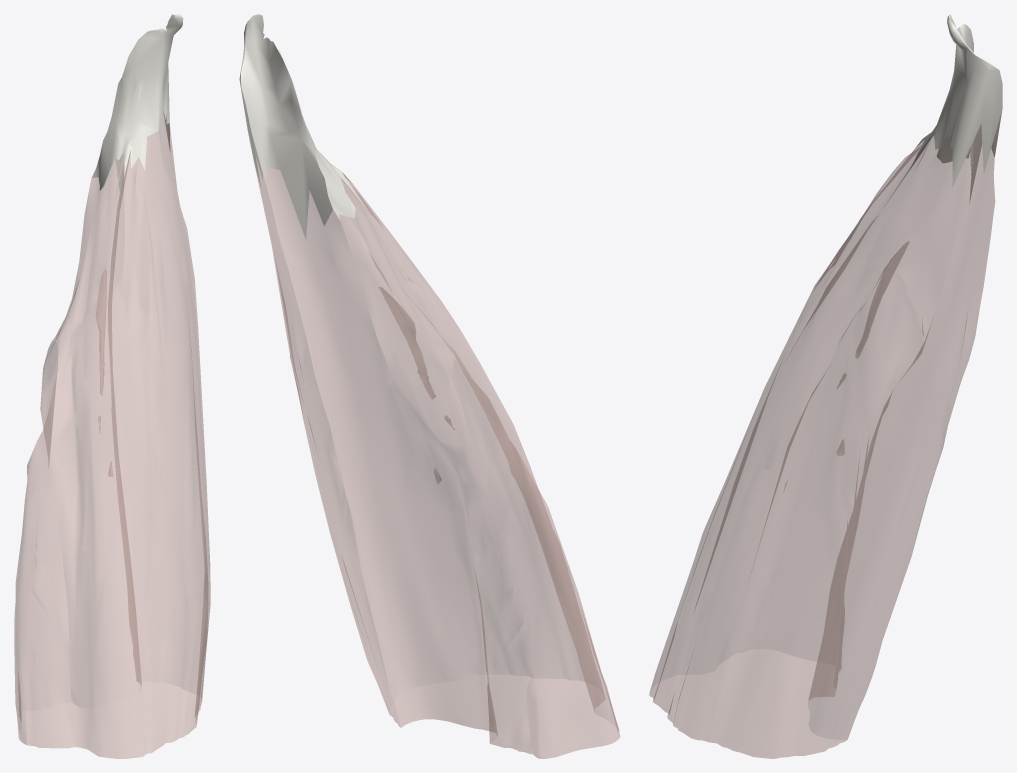
File: flechisseur-profond-doigts.glb
3 renders of one model, left to right at view 1: azimuth 30°, elevation 25°; view 2: azimuth 150°, elevation 25°; view 3: azimuth 270°, elevation 25°, orthographic. The views are drawn at different scales.
Parts seen in each view (by area): view 1: flechisseur-profond-doigts; view 2: flechisseur-profond-doigts; view 3: flechisseur-profond-doigts.
Boxes of the visible parts, left/top/right/bottom form: flechisseur-profond-doigts: left=14, top=14, right=210, bottom=758; flechisseur-profond-doigts: left=239, top=14, right=620, bottom=758; flechisseur-profond-doigts: left=649, top=14, right=1002, bottom=758.
Size of the model in its own units: 0.0442 by 0.1095 by 0.0454.
